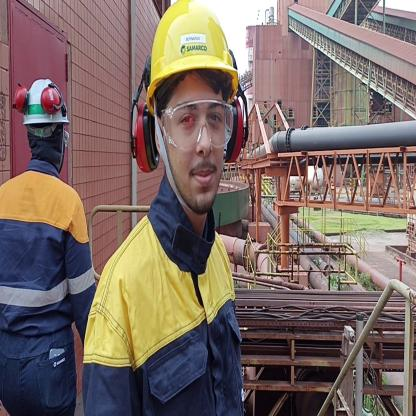Balaclava: (26, 123, 68, 169)
C_eletrica: (94, 227, 248, 416)
Capacete: (146, 0, 243, 82), (19, 73, 69, 124)
Operacional: (0, 171, 92, 332)
